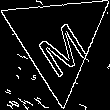M_NW: (27, 6, 88, 74)
